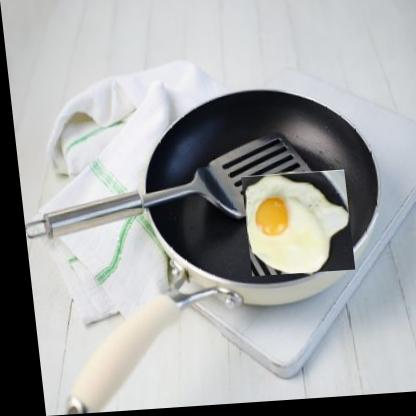egg: (238, 174, 350, 281)
